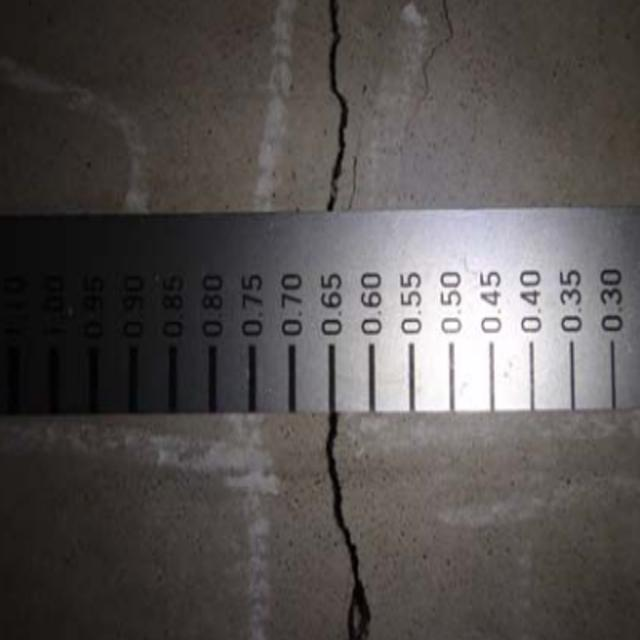crack: (313, 411, 381, 640), (316, 4, 356, 217)
